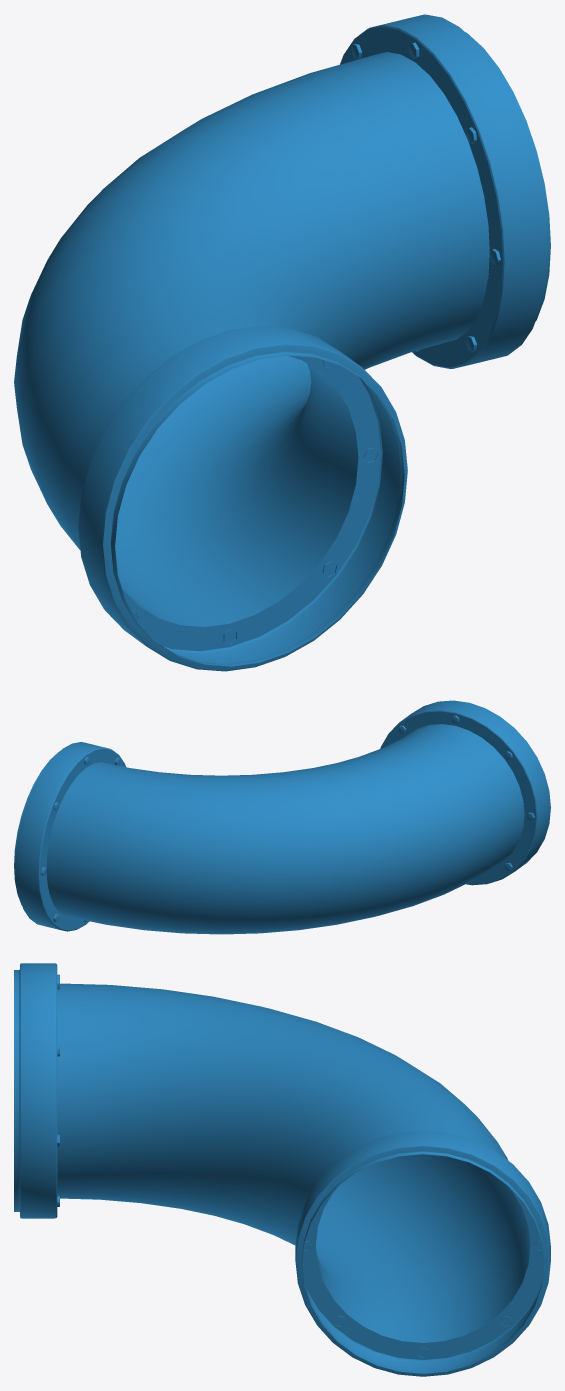
File: Sub_CurvePipe_Pix.fbx
The picture shows the model from 3 angles, top to bottom: view 1: azimuth 30°, elevation 25°; view 2: azimuth 150°, elevation 25°; view 3: azimuth 270°, elevation 25°; orthographic projection. The views are drawn at different scales.
Visible parts, largest first — view 1: sub_CurvePipe2; view 2: sub_CurvePipe2; view 3: sub_CurvePipe2.
Part boxes in pixels (bbox=[...]): sub_CurvePipe2: bbox=[14, 14, 550, 671]; sub_CurvePipe2: bbox=[14, 700, 550, 934]; sub_CurvePipe2: bbox=[14, 963, 550, 1376].
Bounding box in the file's own units: 106 × 50.56 × 106.
